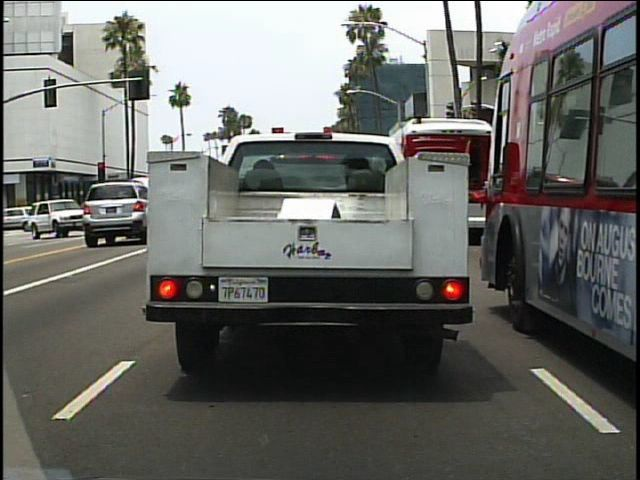person: (18, 200, 37, 235)
